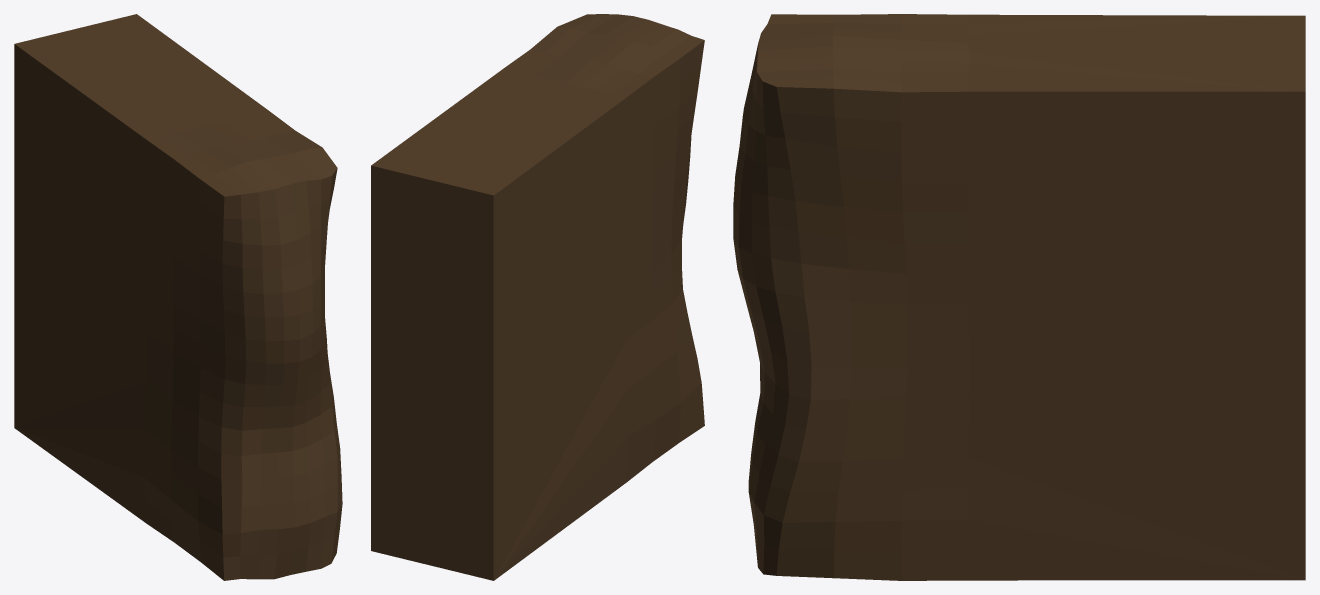
The model's file is wallBigPlain.fbx.
3 views of the same model, side by side, from view 1: azimuth 30°, elevation 25°; view 2: azimuth 150°, elevation 25°; view 3: azimuth 270°, elevation 25° (orthographic). The views are drawn at different scales.
Parts seen in each view (by area): view 1: 3x1 wall.001; view 2: 3x1 wall.001; view 3: 3x1 wall.001.
Boxes of the visible parts, x1=… form: 3x1 wall.001: x1=14, y1=14, x2=342, y2=580; 3x1 wall.001: x1=371, y1=14, x2=704, y2=580; 3x1 wall.001: x1=733, y1=14, x2=1305, y2=580.
Bounding box in the file's own units: 105 × 309 × 319.
